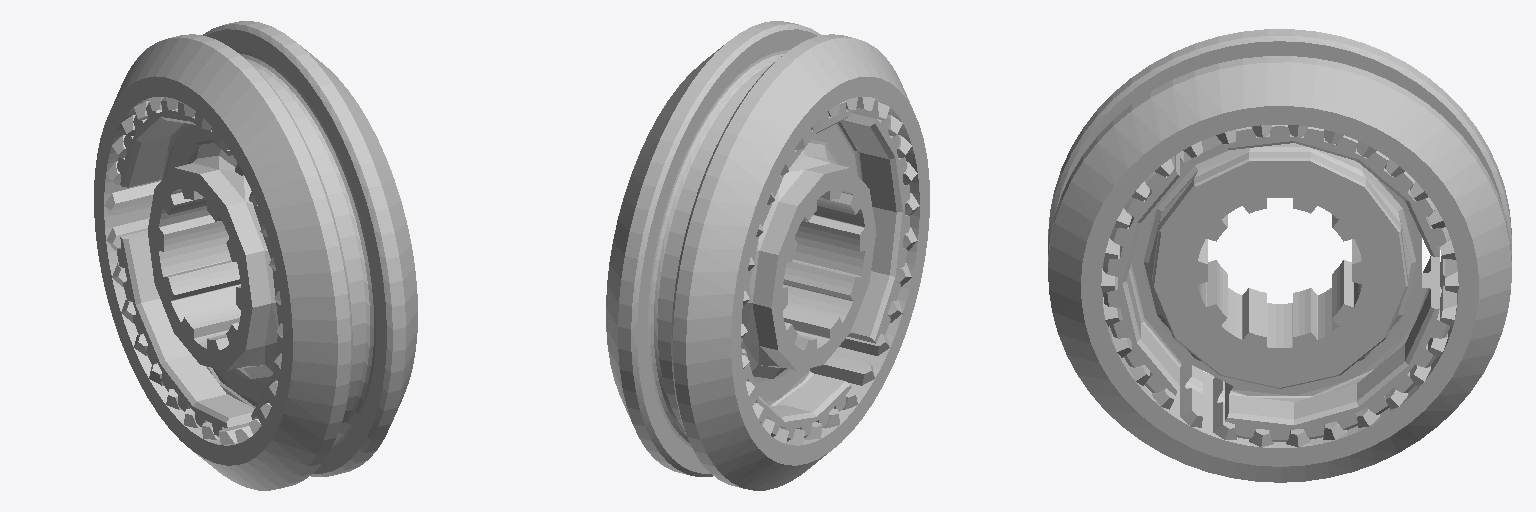
Rendered from 74. Комплект муфты со ступицей.obj.
3 views of the same model, side by side, from view 1: azimuth 30°, elevation 25°; view 2: azimuth 150°, elevation 25°; view 3: azimuth 270°, elevation 25° (orthographic).
Visible parts, largest first — view 1: Твердое тело1:1, Твердое тело1; view 2: Твердое тело1:1, Твердое тело1; view 3: Твердое тело1:1, Твердое тело1.
Boxes of the visible parts, box(x1,y1,x2,y2) form: Твердое тело1:1: box(94, 21, 417, 490); Твердое тело1: box(117, 97, 282, 437); Твердое тело1:1: box(606, 21, 929, 490); Твердое тело1: box(741, 101, 909, 441); Твердое тело1:1: box(1048, 29, 1511, 482); Твердое тело1: box(1103, 125, 1449, 441).
Bounding box in the file's own units: 33 × 106 × 106.